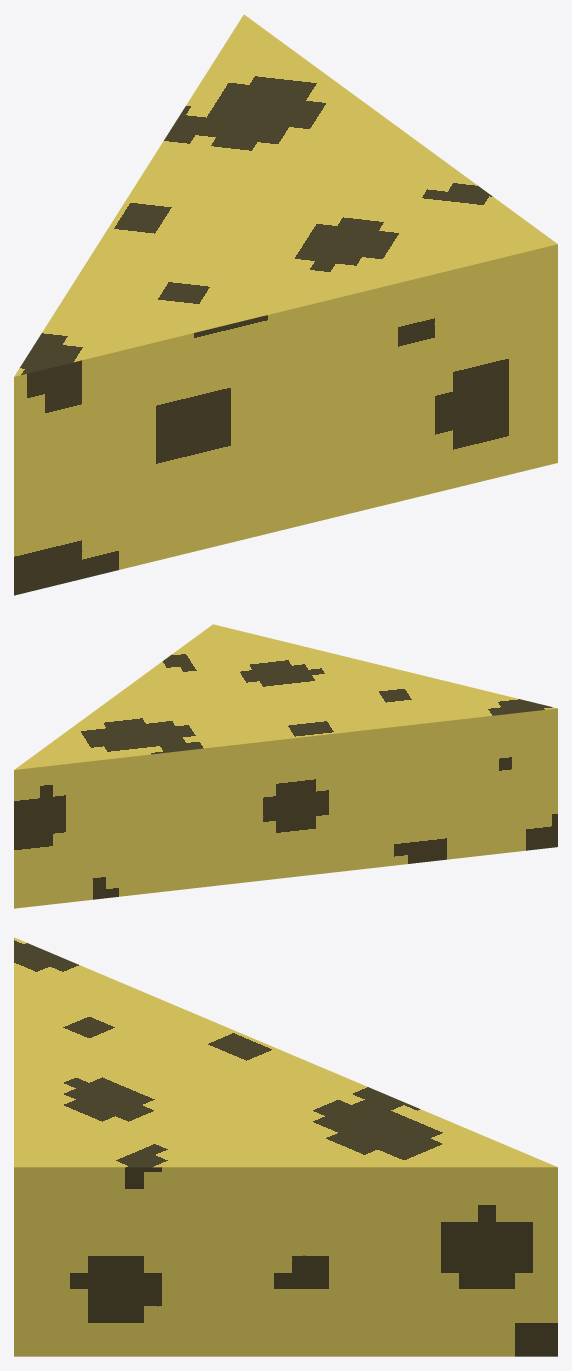
Rendered from cheese.glb.
The picture shows the model from 3 angles, top to bottom: view 1: azimuth 30°, elevation 25°; view 2: azimuth 150°, elevation 25°; view 3: azimuth 270°, elevation 25°; orthographic projection. The views are drawn at different scales.
Parts seen in each view (by area): view 1: Plane; view 2: Plane; view 3: Plane.
Boxes of the visible parts, x1,y1,x2,y2 form: Plane: [14, 14, 557, 595]; Plane: [14, 624, 557, 908]; Plane: [14, 937, 557, 1356].
Bounding box in the file's own units: 0.7588 × 0.2915 × 0.7588.
Materials: 1 (1 with a texture image).
